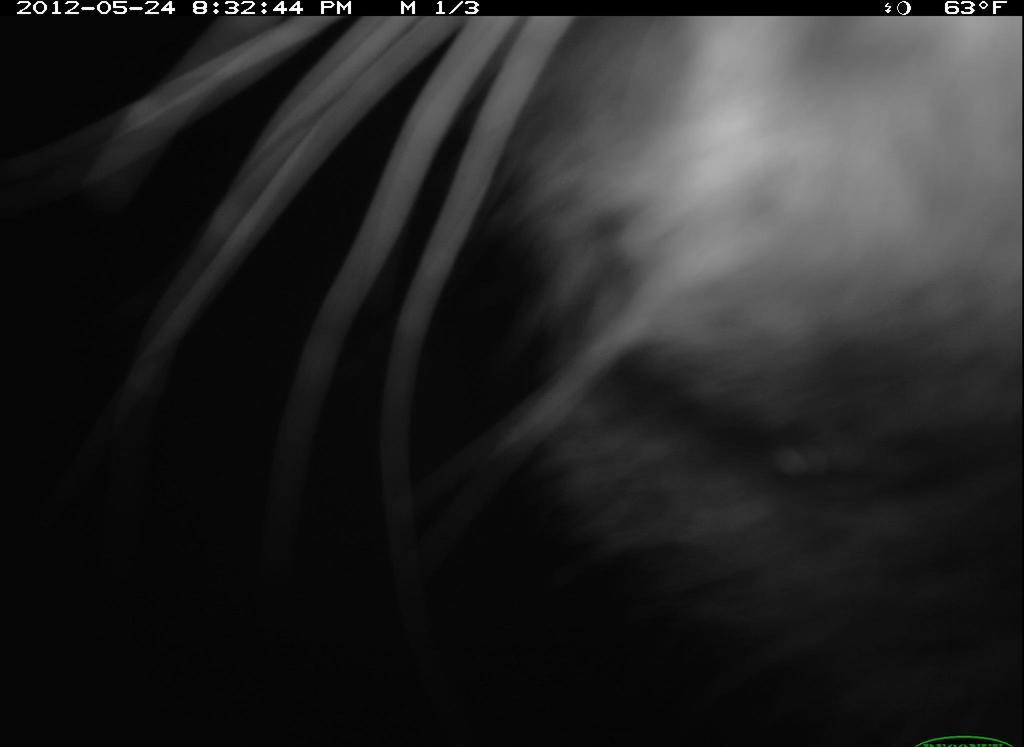raccoon: (61, 16, 1023, 747)
